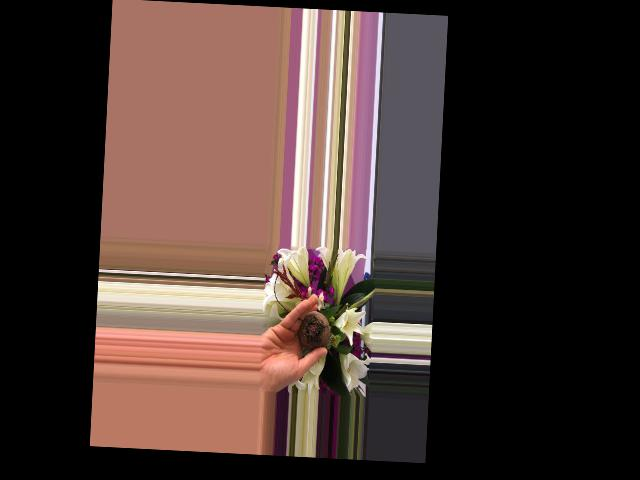beet: (297, 309, 331, 351)
